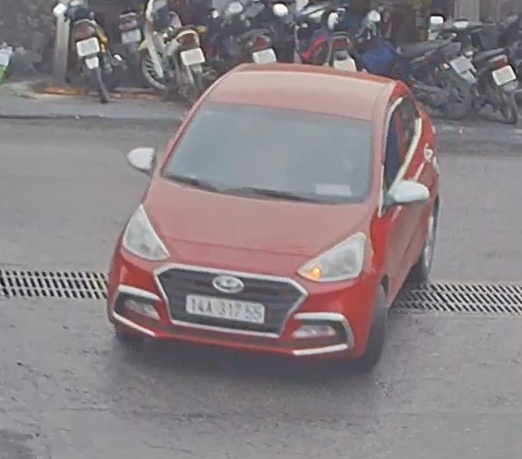vehicle plate: (189, 289, 266, 323)
